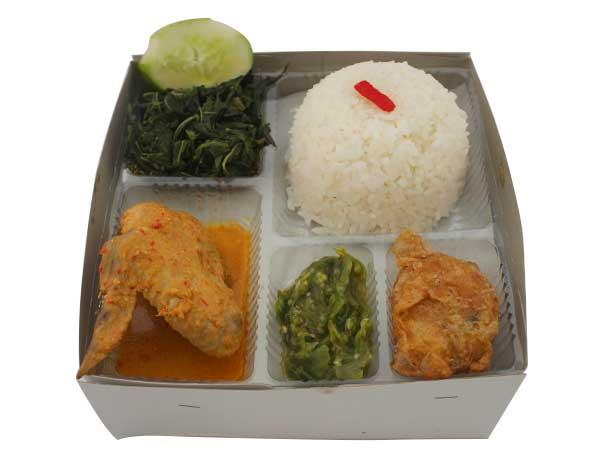buah_sayur_lainnya: (146, 91, 247, 163), (294, 270, 358, 355), (148, 33, 232, 76)
daging: (120, 210, 240, 368)
makanan_berpati: (323, 77, 437, 216), (404, 265, 480, 357)
